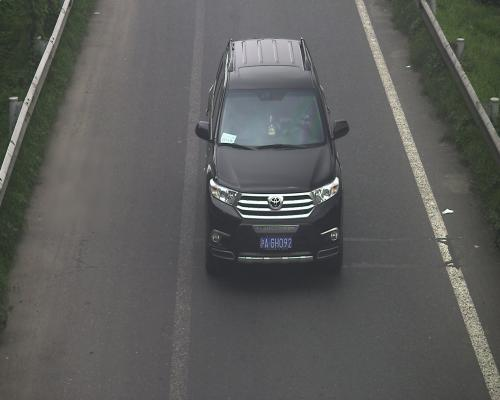Carplate: (256, 230, 296, 252)
